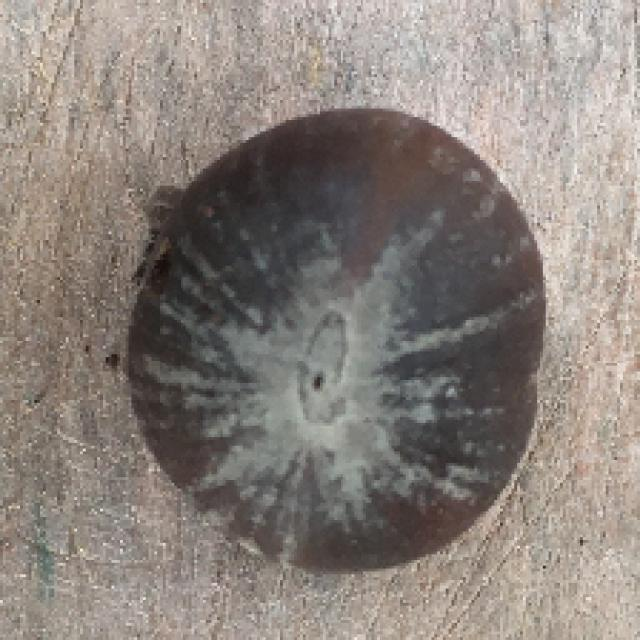damagedHazelnut: (115, 104, 550, 582)
